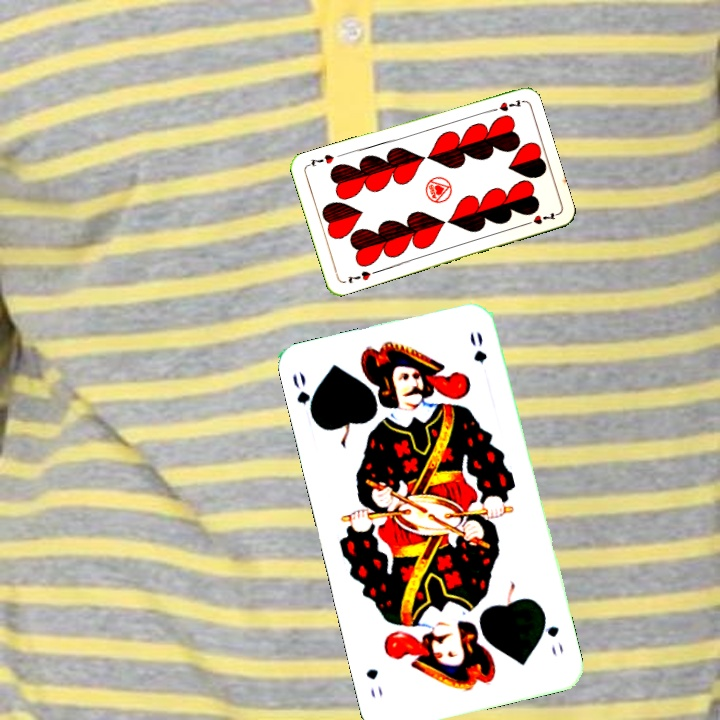GO: (288, 367, 319, 425), (538, 608, 566, 658)
H7: (485, 96, 524, 115), (344, 266, 380, 286)
